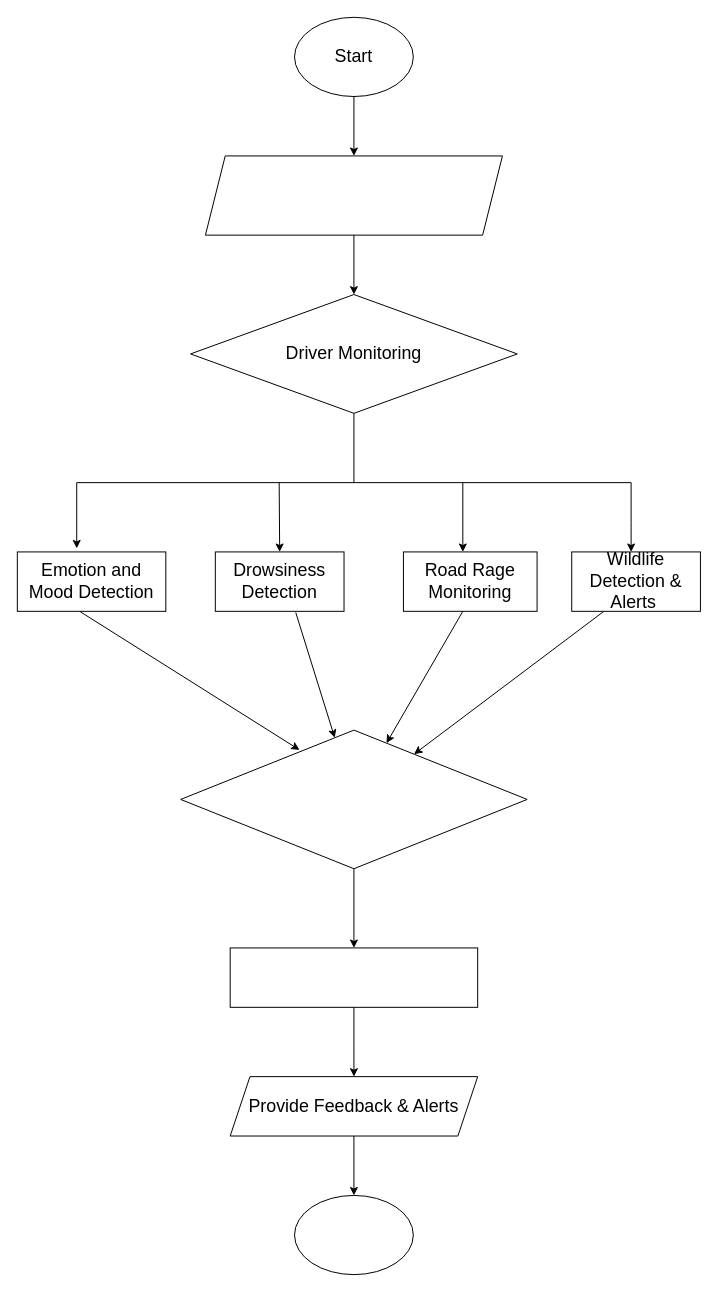
The diagram is 718 pixels wide and 1292 high, and some of its shapes have lost their labels. Here are the shapes that lost their labels. From the top down, the centre of each, then its label:
point (353, 195): System Initialization
point (353, 799): AI - Powered Decision Making
point (353, 977): Safety Interventions
point (353, 1234): End
